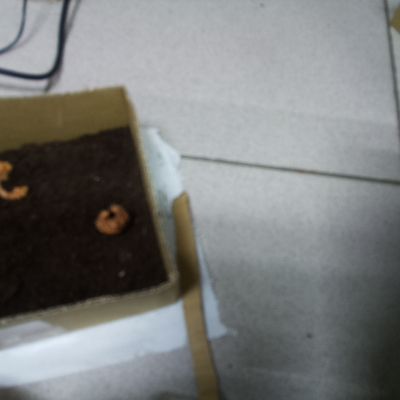eggs: (88, 199, 133, 240), (1, 155, 35, 207)
